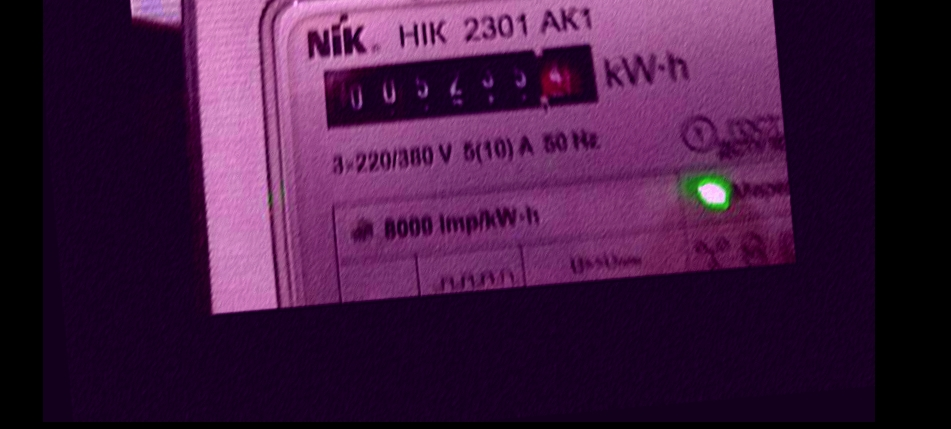0: (381, 74, 404, 109), (349, 81, 370, 114)
2: (446, 65, 470, 101)
3: (478, 60, 505, 95)
4: (547, 54, 572, 92)
5: (512, 56, 537, 94), (415, 69, 436, 104)
screen: (308, 31, 616, 144)
